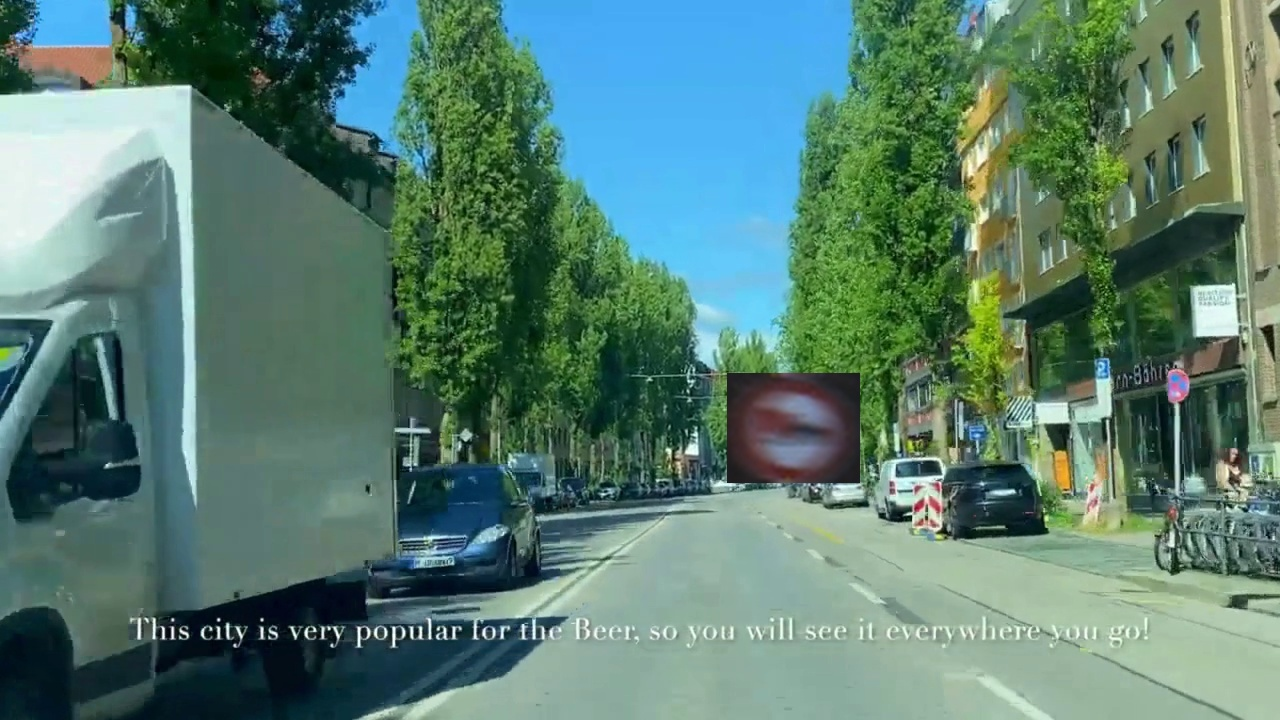No pass >3.5t: (727, 373, 860, 483)
